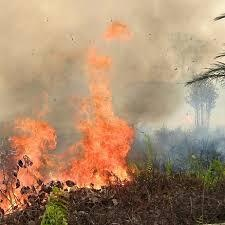fire: (2, 39, 140, 195)
